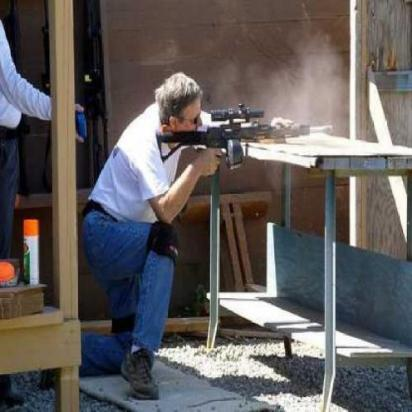Gun: (147, 95, 346, 179)
